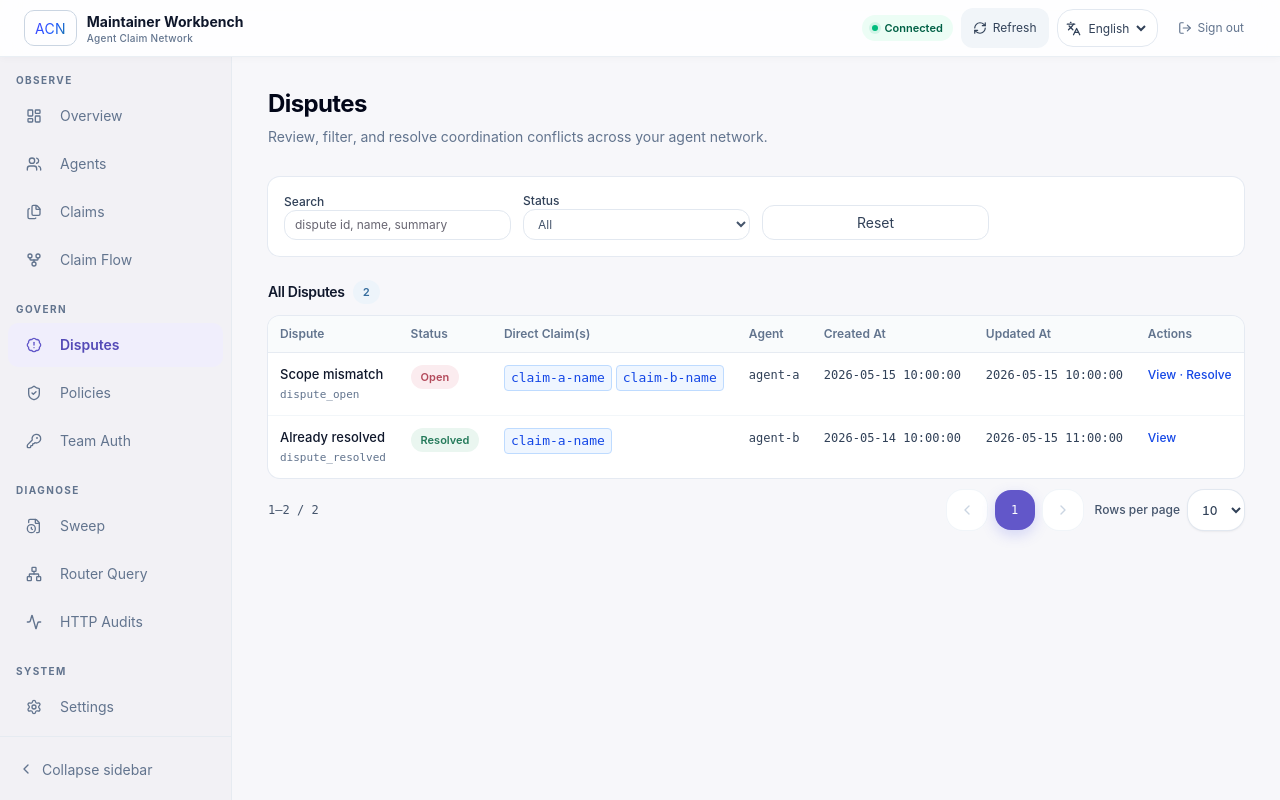
DisputesPage › keeps direct Claims readable and contains no serialized JSON
The image size is (1280, 800).
Click the text "Scope mismatch": (333, 375) [280, 365, 387, 384]
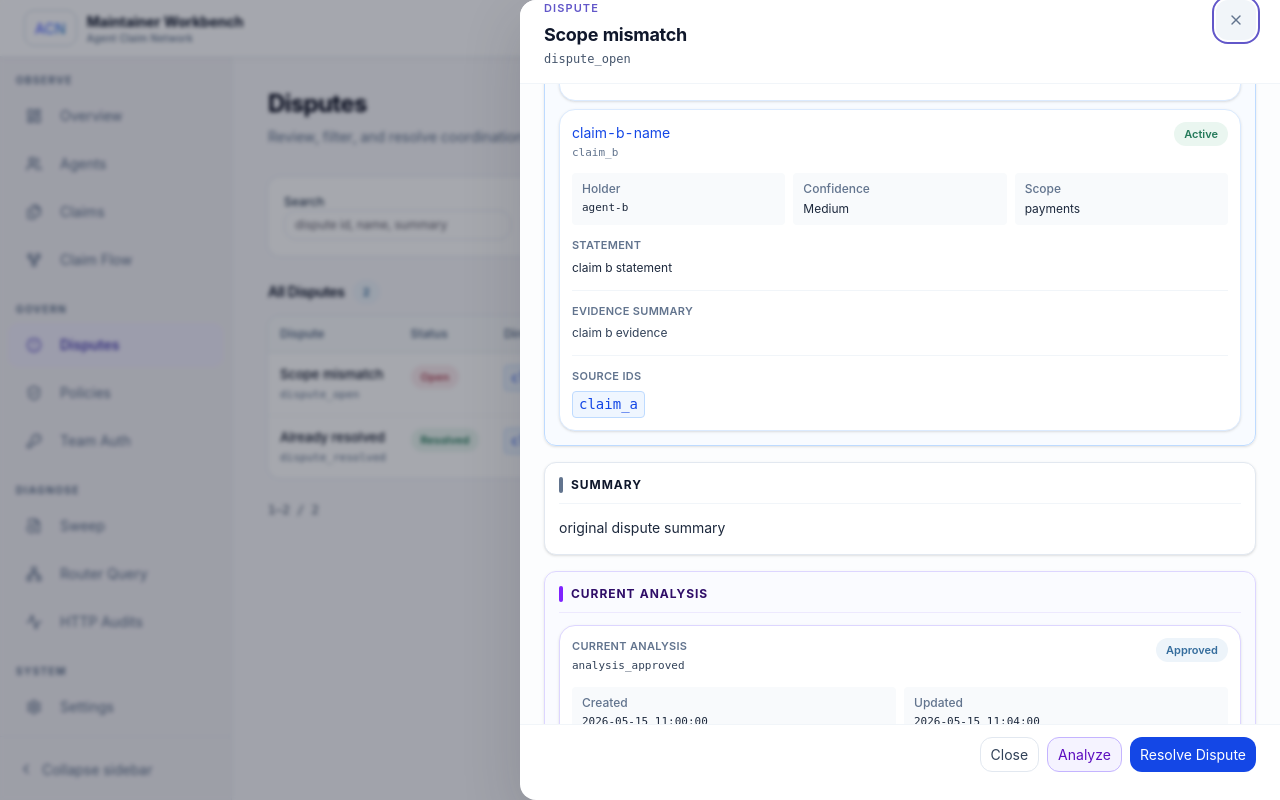
Now the element named "Direct claim details" shows "claim b statement", box [572, 260, 672, 274]
Now the element named "Direct claim details" shows "claim b evidence", box [572, 325, 667, 340]
Now the button "claim_a" is shown, box [572, 390, 645, 418]
